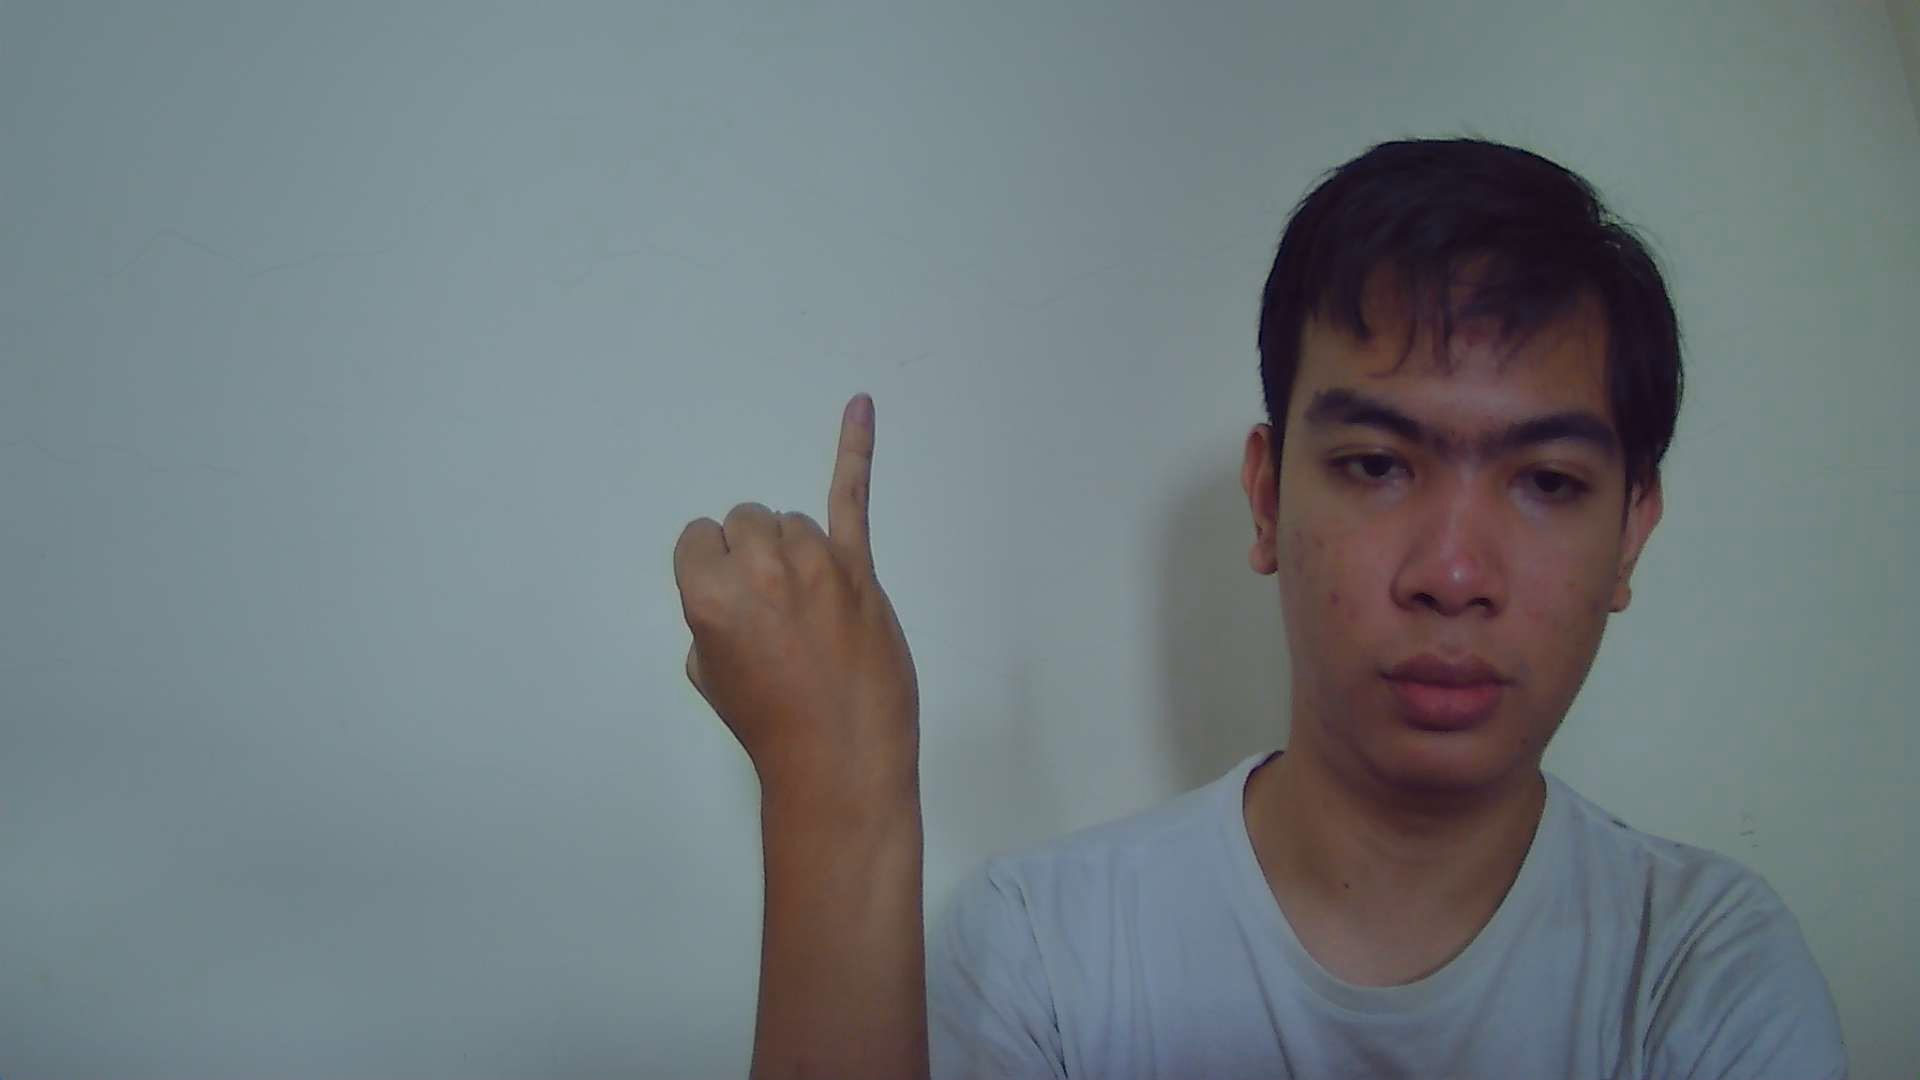j: (665, 386, 924, 708)
